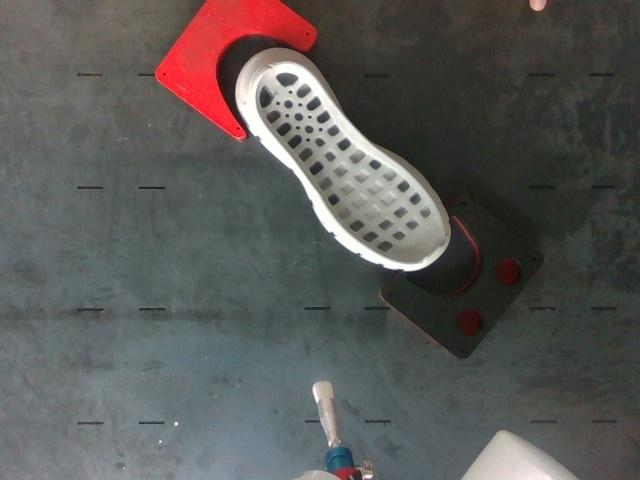shoes: (255, 61, 445, 265)
